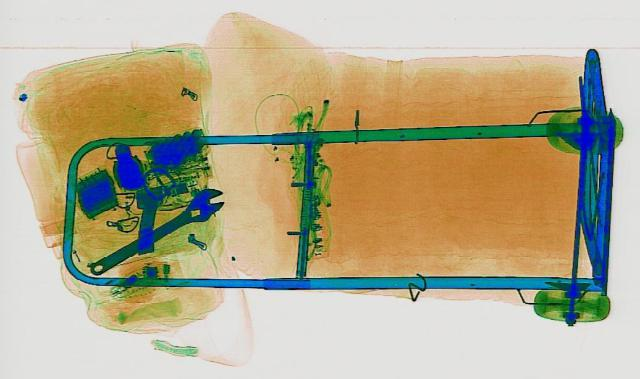Wrench: (76, 185, 238, 278)
